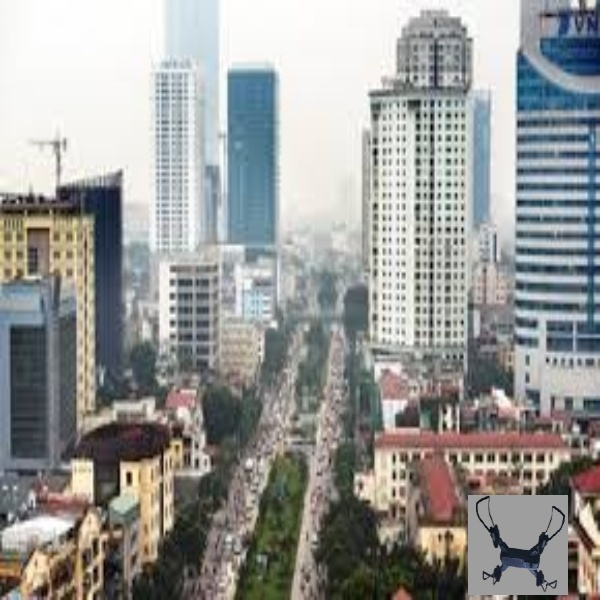drone: (465, 492, 565, 594)
